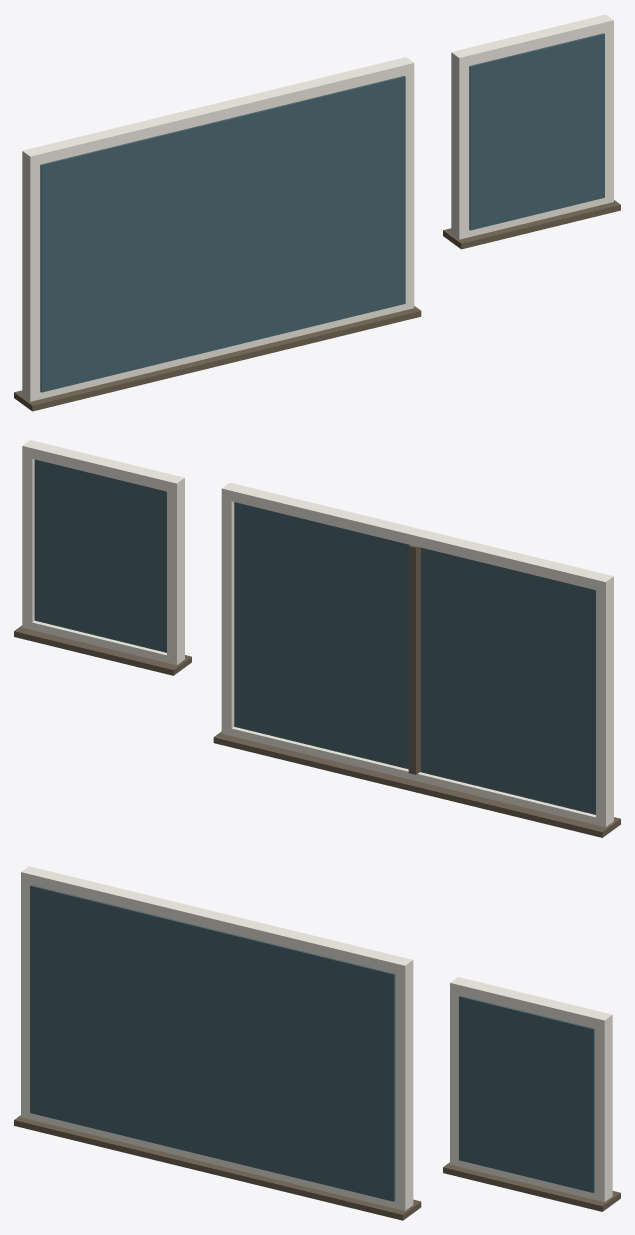
File: module_window_bay.glb
3 renders of one model, top to bottom at view 1: azimuth 30°, elevation 25°; view 2: azimuth 150°, elevation 25°; view 3: azimuth 330°, elevation 25°, orthographic.
Parts seen in each view (by area): view 1: long-facade-windows, long-facade-window-frames, long-facade-window-sills; view 2: long-facade-windows, long-facade-window-frames, long-facade-window-sills, adaptive-facade-screens, long-facade-window-gaskets; view 3: long-facade-windows, long-facade-window-frames, long-facade-window-sills.
Part boxes in pixels (x1,y1,x2,y2): long-facade-windows: [40, 33, 604, 392]; long-facade-window-frames: [22, 14, 613, 401]; long-facade-window-sills: [14, 200, 620, 411]; long-facade-windows: [35, 459, 595, 813]; long-facade-window-frames: [22, 440, 613, 827]; long-facade-window-sills: [14, 625, 620, 837]; adaptive-facade-screens: [408, 545, 420, 774]; long-facade-window-gaskets: [34, 459, 595, 814]; long-facade-windows: [30, 885, 594, 1201]; long-facade-window-frames: [21, 866, 612, 1210]; long-facade-window-sills: [14, 1115, 620, 1220].
Size of the model in its own units: 5.9 by 2.4 by 0.32.
